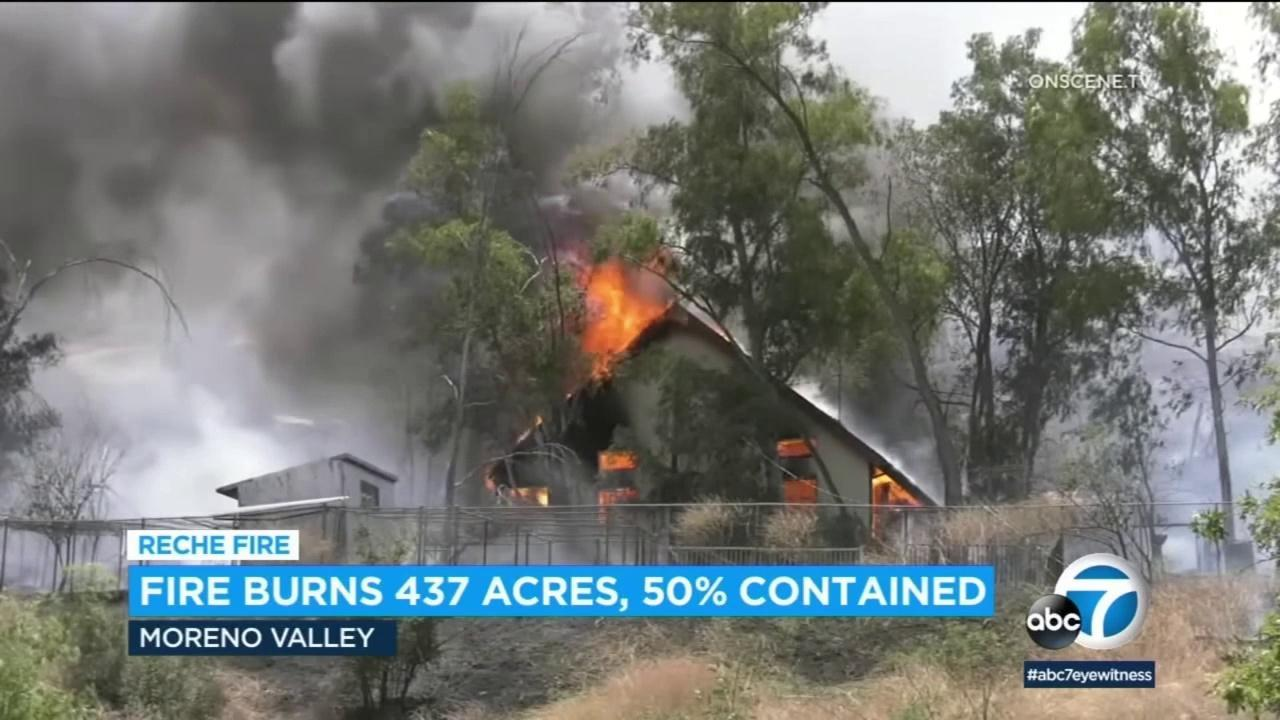fire: (580, 258, 670, 380), (517, 417, 544, 442), (483, 464, 498, 492), (536, 485, 551, 506), (508, 486, 533, 496)
smoke: (1, 0, 680, 518), (787, 137, 973, 505)
